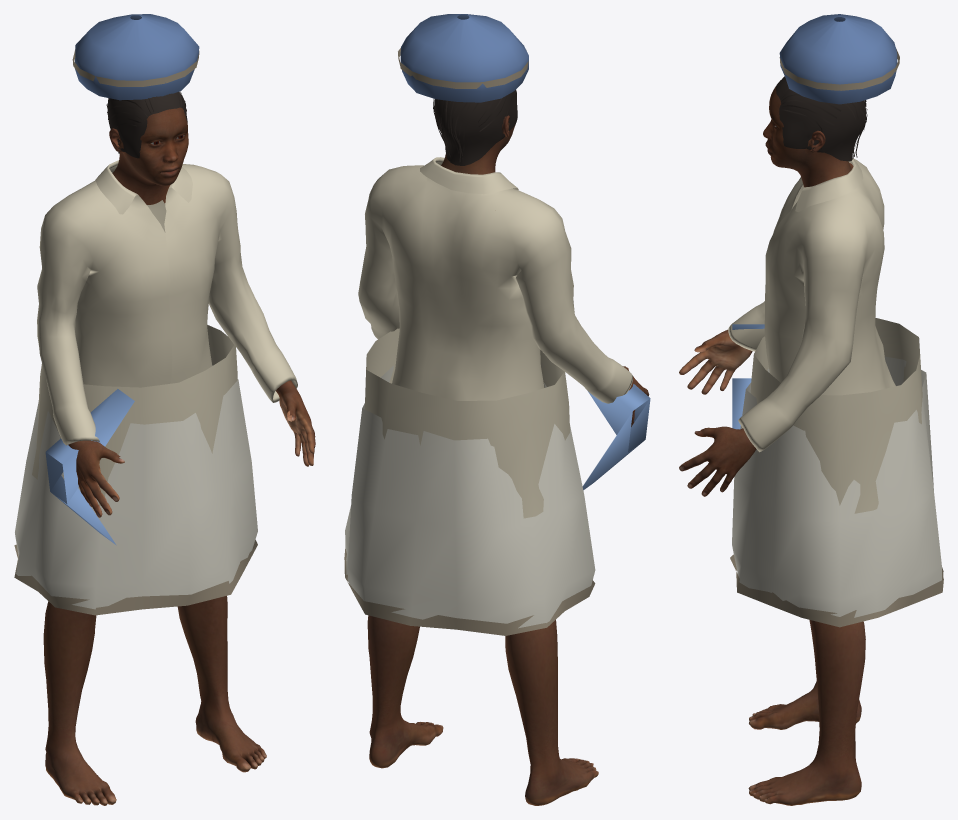
The model's file is village_weaver_assistant.glb.
The picture shows the model from 3 angles, left to right: view 1: azimuth 30°, elevation 25°; view 2: azimuth 150°, elevation 25°; view 3: azimuth 270°, elevation 25°; orthographic projection. The views are drawn at different scales.
Visible parts, largest first — view 1: Fitted cotton upper base_static_preview, Knee length wrapped dhoti_static_preview, village_weaver_assistant_MakeHuman_body_static_preview, Soft cotton head wrap_static_preview, Kurta loose lower panel_static_preview, Weaver assistant folded cloth_static_preview, Dhoti woven border_static_preview, Farmer_hair_static_preview, Head wrap fold_static_preview; view 2: Fitted cotton upper base_static_preview, Knee length wrapped dhoti_static_preview, village_weaver_assistant_MakeHuman_body_static_preview, Kurta loose lower panel_static_preview, Soft cotton head wrap_static_preview, Farmer_hair_static_preview, Weaver assistant folded cloth_static_preview, Dhoti woven border_static_preview, Head wrap fold_static_preview; view 3: Knee length wrapped dhoti_static_preview, Fitted cotton upper base_static_preview, village_weaver_assistant_MakeHuman_body_static_preview, Kurta loose lower panel_static_preview, Soft cotton head wrap_static_preview, Farmer_hair_static_preview, Dhoti woven border_static_preview, Head wrap fold_static_preview, Weaver assistant folded cloth_static_preview.
Part boxes in pixels (<box>): Fitted cotton upper base_static_preview: <box>37,160,297,445</box>; Knee length wrapped dhoti_static_preview: <box>15,364,257,609</box>; village_weaver_assistant_MakeHuman_body_static_preview: <box>43,107,315,805</box>; Soft cotton head wrap_static_preview: <box>75,14,199,100</box>; Kurta loose lower panel_static_preview: <box>32,325,237,505</box>; Weaver assistant folded cloth_static_preview: <box>45,389,134,545</box>; Dhoti woven border_static_preview: <box>14,540,257,615</box>; Farmer_hair_static_preview: <box>106,91,188,158</box>; Head wrap fold_static_preview: <box>72,49,199,86</box>; Fitted cotton upper base_static_preview: <box>358,157,632,403</box>; Knee length wrapped dhoti_static_preview: <box>345,365,595,628</box>; village_weaver_assistant_MakeHuman_body_static_preview: <box>367,115,649,805</box>; Kurta loose lower panel_static_preview: <box>364,328,569,518</box>; Soft cotton head wrap_static_preview: <box>400,14,528,102</box>; Farmer_hair_static_preview: <box>433,90,517,165</box>; Weaver assistant folded cloth_static_preview: <box>582,384,650,490</box>; Dhoti woven border_static_preview: <box>344,548,595,635</box>; Head wrap fold_static_preview: <box>398,48,528,88</box>; Knee length wrapped dhoti_static_preview: <box>732,356,941,617</box>; Fitted cotton upper base_static_preview: <box>728,158,895,452</box>; village_weaver_assistant_MakeHuman_body_static_preview: <box>679,86,865,805</box>; Kurta loose lower panel_static_preview: <box>750,317,922,513</box>; Soft cotton head wrap_static_preview: <box>779,14,897,104</box>; Farmer_hair_static_preview: <box>776,76,867,161</box>; Dhoti woven border_static_preview: <box>730,554,943,627</box>; Head wrap fold_static_preview: <box>779,48,899,90</box>; Weaver assistant folded cloth_static_preview: <box>732,324,764,429</box>.
Bounding box in the file's own units: 0.5819 × 1.67 × 0.5417.
8 materials, 2 textured.
